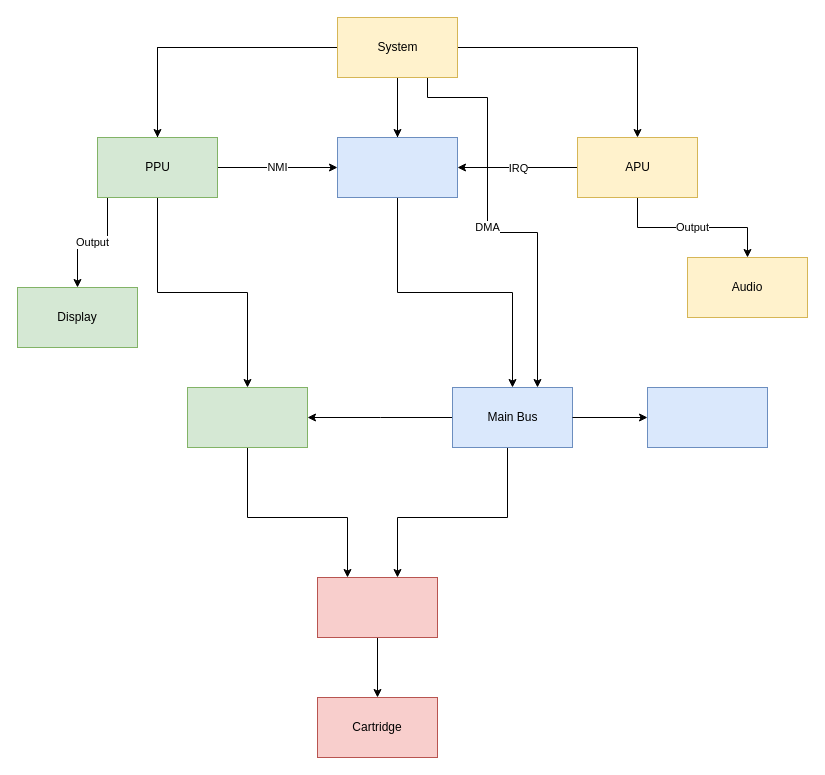
The diagram is 825 pixels wide and 775 high, and some of its shapes have lost their labels. Here are the shapes that lost their labels. From the top down, the centre of each, then its label:
At pixel 397 167: "CPU".
At pixel 247 417: "PPU Bus".
At pixel 707 417: "Controller".
At pixel 377 607: "Mapper".
